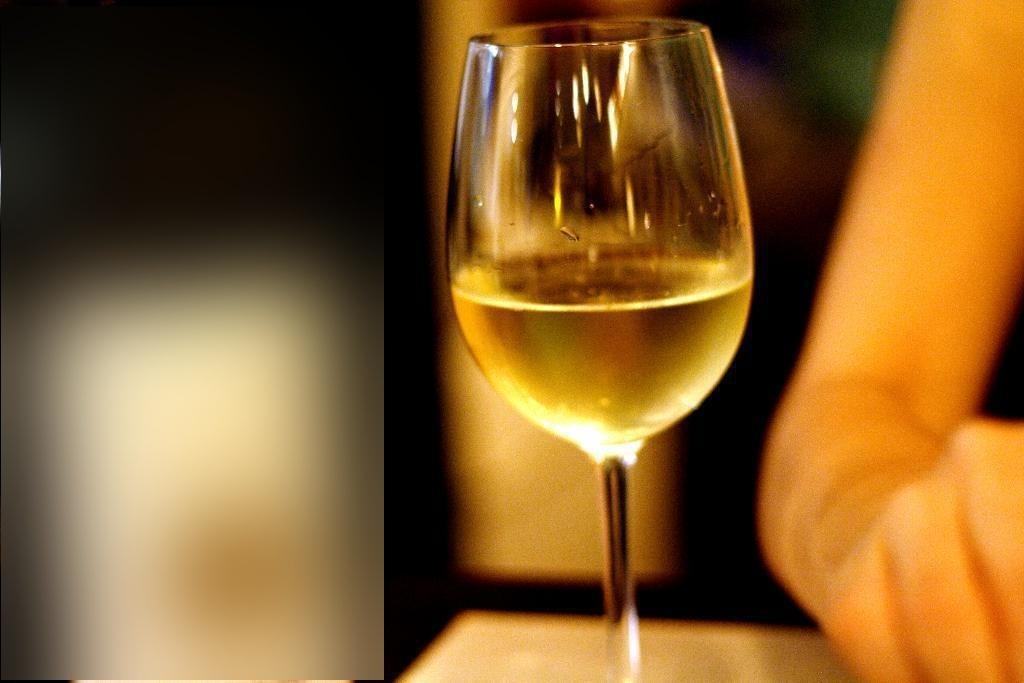glass-wine: (444, 18, 756, 682)
